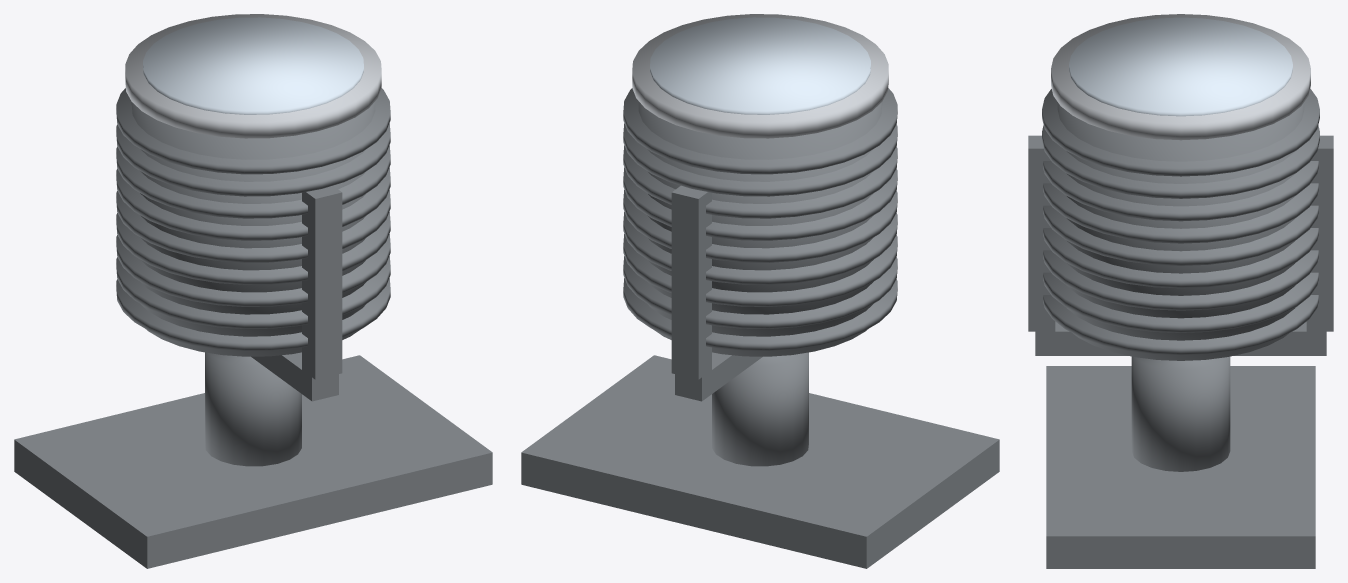
The model's file is light-bracket.glb.
The picture shows the model from 3 angles, left to right: view 1: azimuth 30°, elevation 25°; view 2: azimuth 150°, elevation 25°; view 3: azimuth 270°, elevation 25°; orthographic projection.
Parts seen in each view (by area): view 1: Прожектор на кронштейне; view 2: Прожектор на кронштейне; view 3: Прожектор на кронштейне.
Part boxes in pixels (x1,y1,x2,y2): Прожектор на кронштейне: (14,14,492,568); Прожектор на кронштейне: (521,14,999,568); Прожектор на кронштейне: (1028,14,1333,568).
Bounding box in the file's own units: 0.18 × 0.206 × 0.136.
